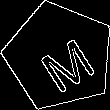M_NW: (26, 23, 93, 90)
